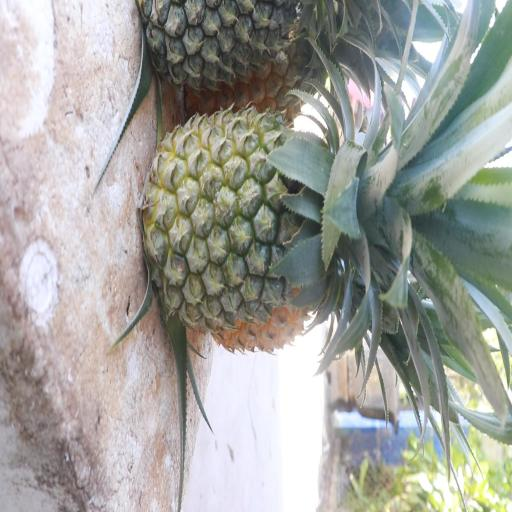------------------------------: (146, 106, 377, 328)
